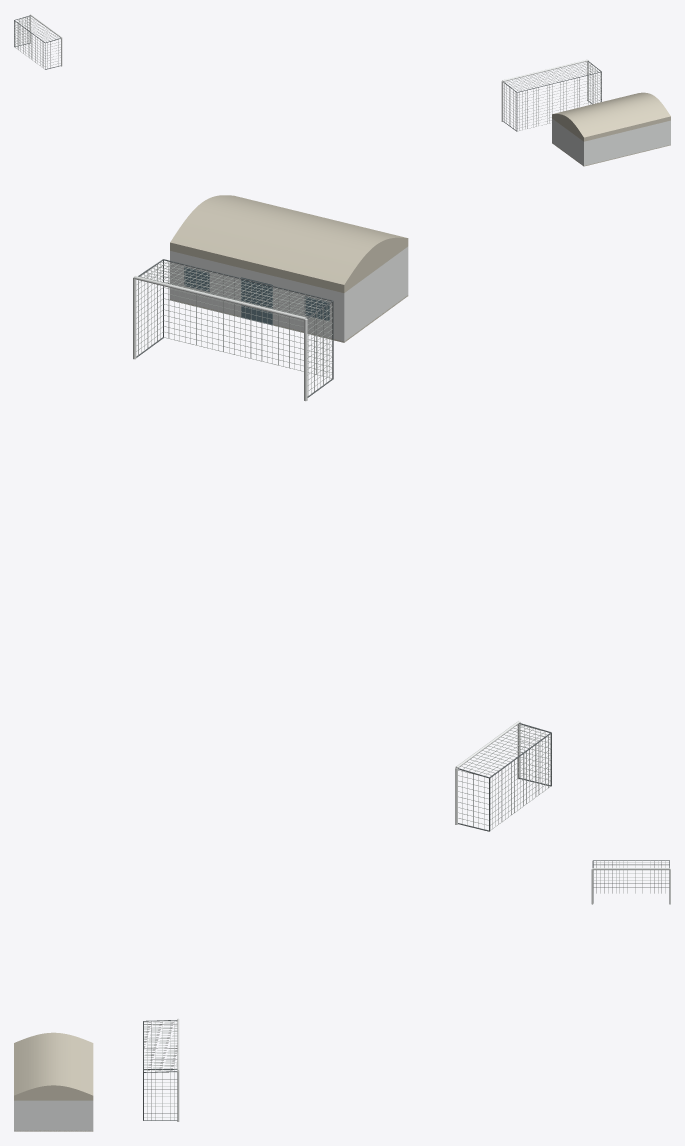
The picture shows the model from 3 angles, top to bottom: view 1: azimuth 30°, elevation 25°; view 2: azimuth 150°, elevation 25°; view 3: azimuth 270°, elevation 25°; orthographic projection. The views are drawn at different scales.
Visible parts, largest first — view 1: buildings_s_1_-4_Warm_Limestone, buildings_s_1_-4_Sports_Net_Twine, buildings_s_1_-4_Painted_Sports_White, buildings_s_1_-4_Dark_Metal; view 2: buildings_s_1_-4_Warm_Limestone, buildings_s_1_-4_Painted_Sports_White, buildings_s_1_-4_Sports_Net_Twine, buildings_s_1_-4_Recessed_Blue_Glass, buildings_s_1_-4_Dark_Metal; view 3: buildings_s_1_-4_Warm_Limestone, buildings_s_1_-4_Painted_Sports_White, buildings_s_1_-4_Sports_Net_Twine.
Part boxes in pixels (x1,y1,x2,y2): buildings_s_1_-4_Warm_Limestone: (552,92,670,166); buildings_s_1_-4_Sports_Net_Twine: (14,16,601,131); buildings_s_1_-4_Painted_Sports_White: (29,14,670,166); buildings_s_1_-4_Dark_Metal: (14,15,601,131); buildings_s_1_-4_Warm_Limestone: (170,195,408,342); buildings_s_1_-4_Painted_Sports_White: (133,246,520,824); buildings_s_1_-4_Sports_Net_Twine: (136,261,550,830); buildings_s_1_-4_Recessed_Blue_Glass: (184,267,329,325); buildings_s_1_-4_Dark_Metal: (136,259,551,831); buildings_s_1_-4_Warm_Limestone: (14,1032,93,1131); buildings_s_1_-4_Painted_Sports_White: (14,868,670,1131); buildings_s_1_-4_Sports_Net_Twine: (144,861,668,1119).
Size of the model in its own units: 49.6 by 5 by 58.
